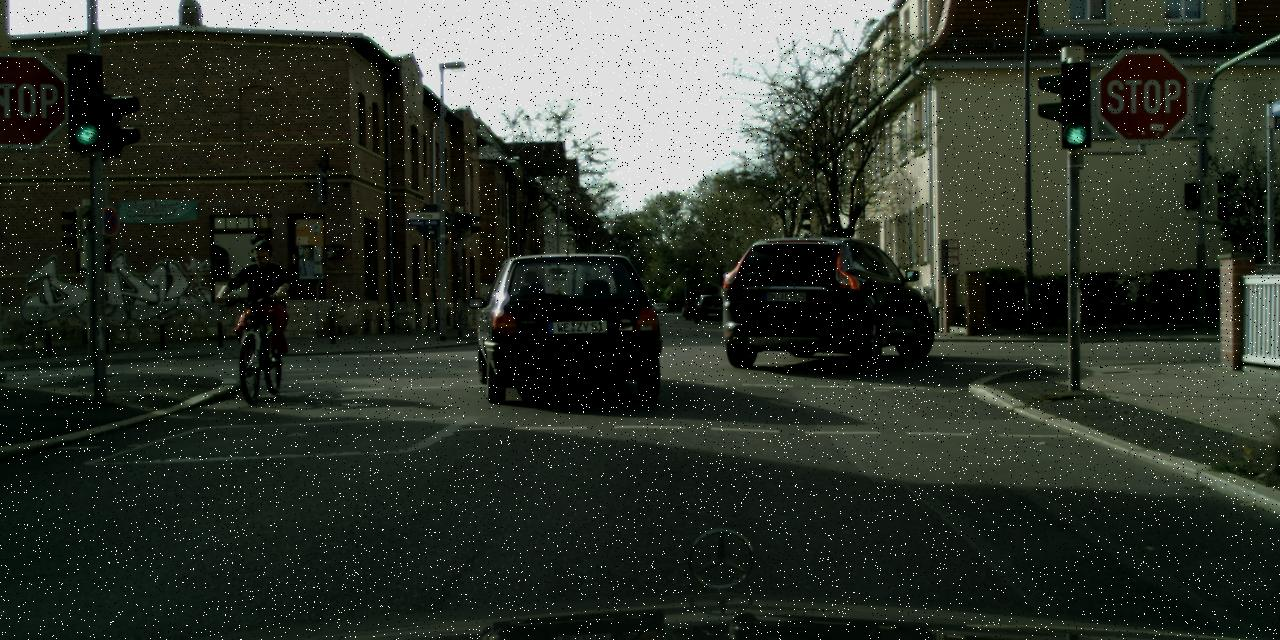ped: (236, 238, 289, 368)
